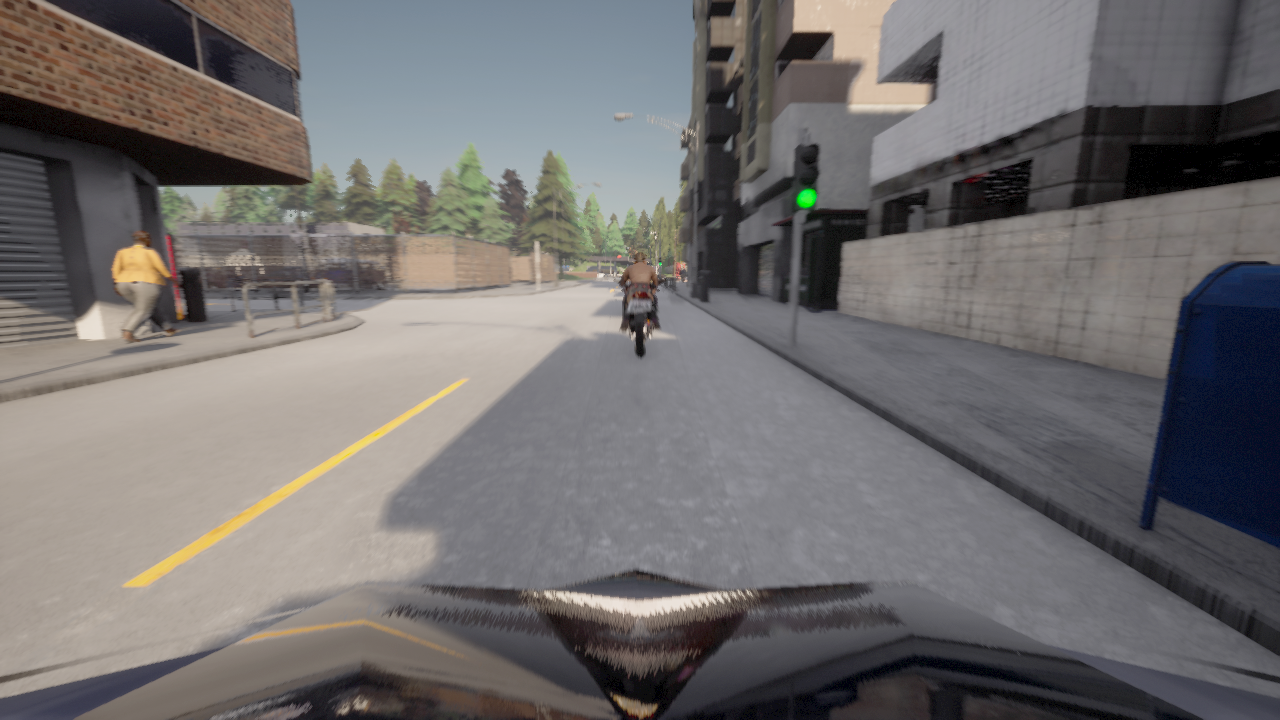cyclist: (0, 569, 1279, 719), (615, 280, 664, 357), (324, 258, 386, 291), (200, 267, 248, 291), (258, 269, 303, 291), (283, 267, 323, 287), (177, 273, 180, 283)
pedestrian: (112, 231, 180, 342), (679, 267, 685, 282)
